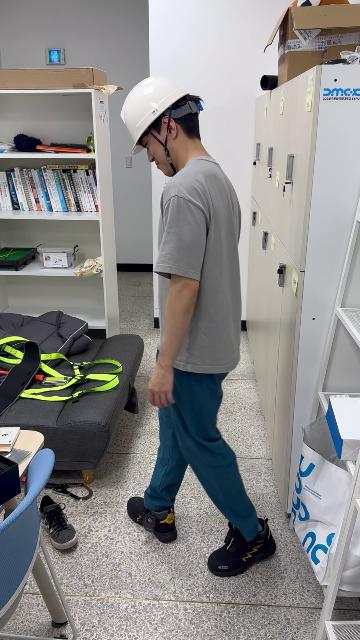helmet_worn: (119, 76, 197, 158)
shoe_not_worn: (37, 495, 78, 550)
shoe_worn: (208, 517, 275, 577), (127, 497, 178, 542)
vest_not_worn: (153, 175, 242, 391)
